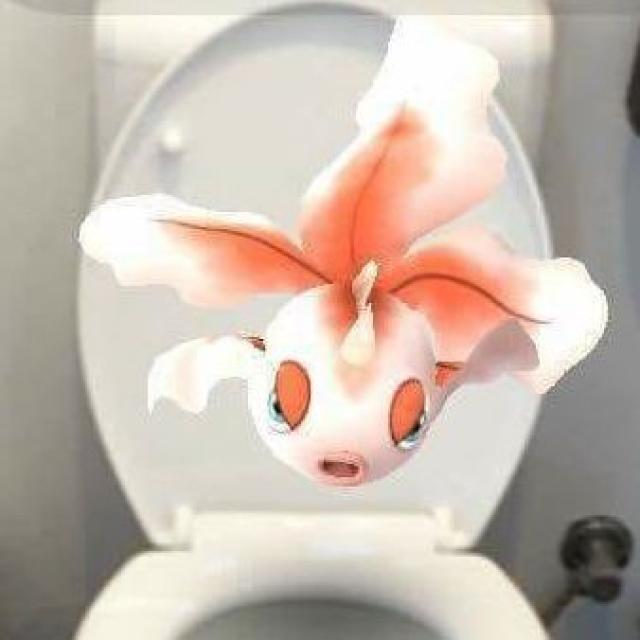Goldeen: (235, 87, 509, 489)
